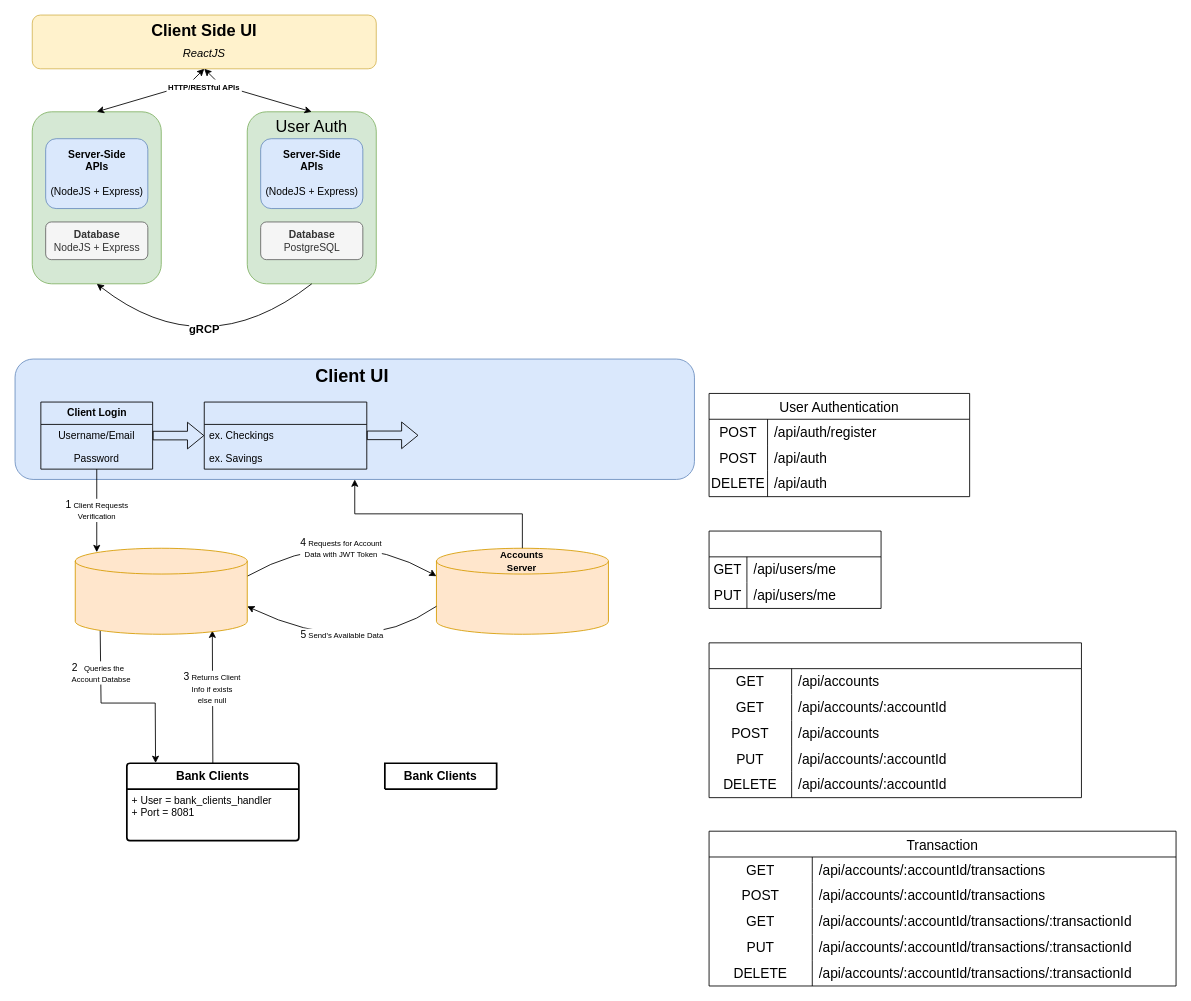
Image size: 1191x1001. Some labels were removed from this diagram. The shapes that lost their labels are listed below. From the top down, each one's box as (x1, y1, x2, y2) in pixels, then its label:
(31, 111, 161, 284): Accounts
(203, 401, 367, 469): Initial Accounts Page
(708, 530, 881, 608): User Profile
(74, 547, 247, 634): Validates Provided Credentials
(436, 547, 608, 634): Handles: - Data Requests - Actions - Creates Txns
(708, 642, 1081, 798): Account Management
